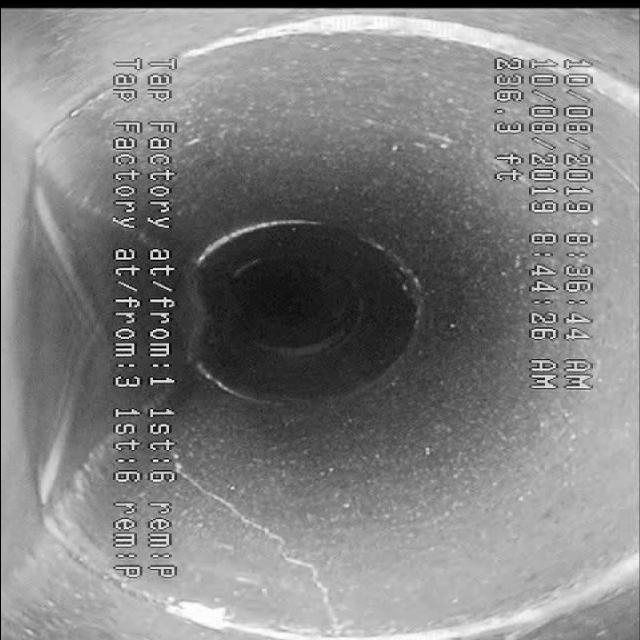Crack: (190, 480, 378, 616)
